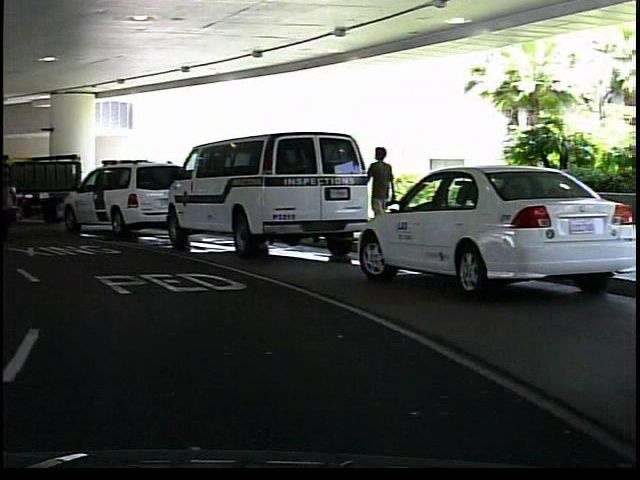person: (359, 138, 397, 246)
